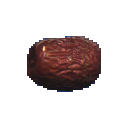gd: (17, 14, 107, 117)
